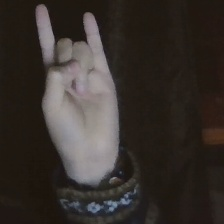U: (31, 1, 128, 155)
